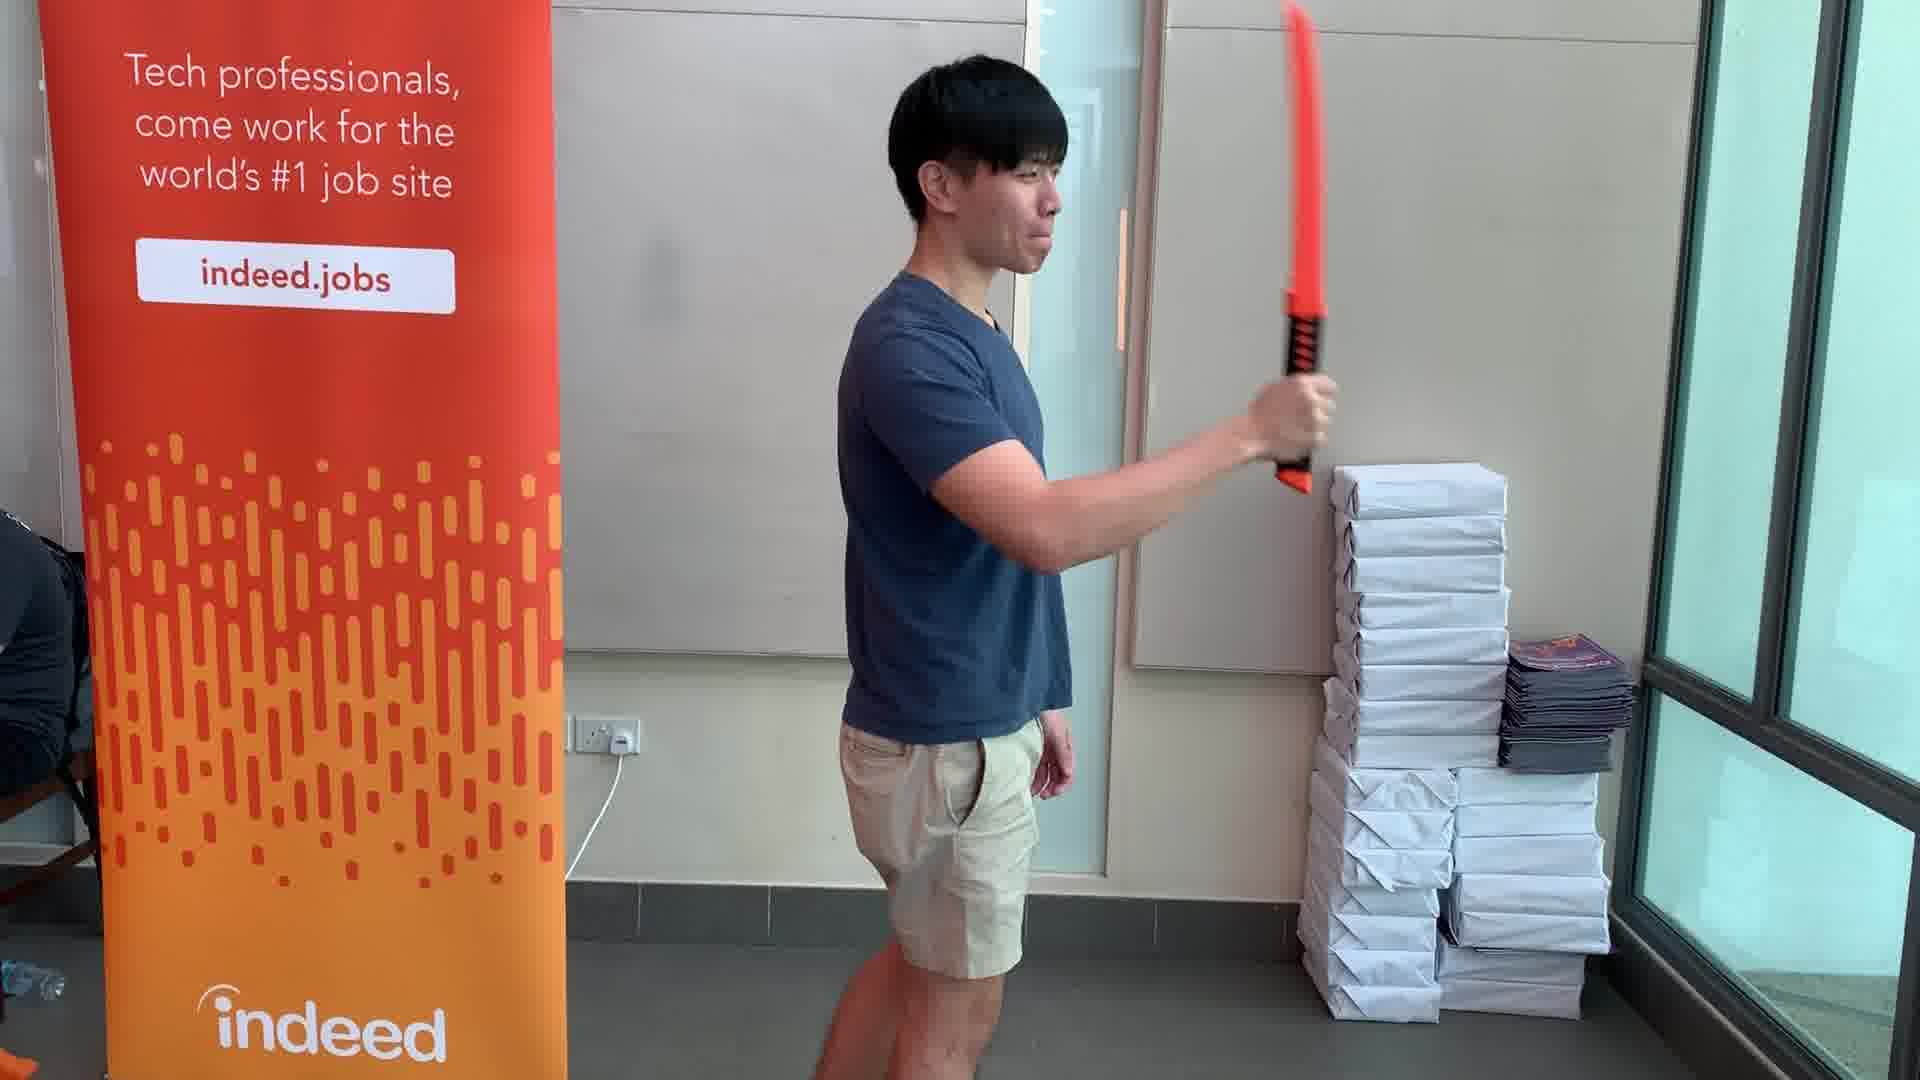knife: (1263, 1, 1329, 516)
